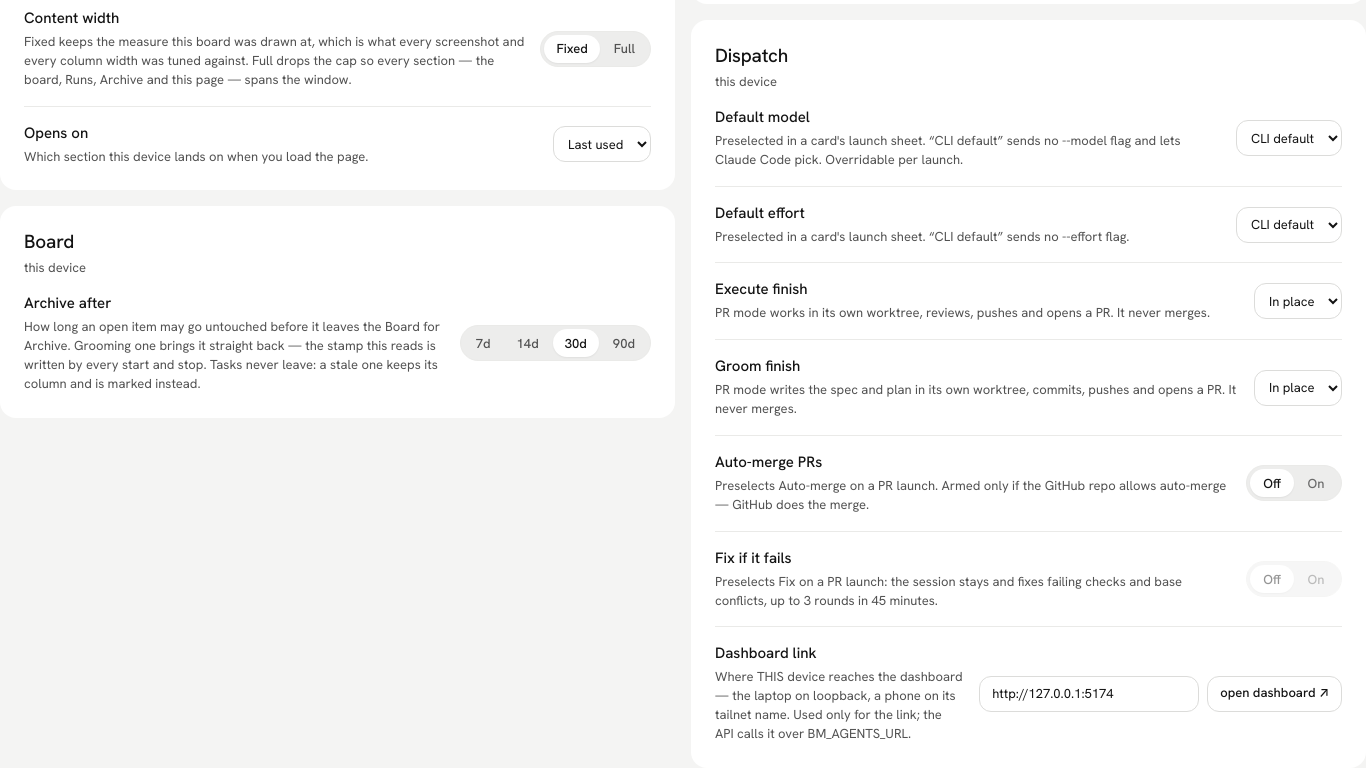
Test case: SettingsView › the Dispatch group · Local › offers the auto-merge and fix defaults, with Fix disabled until Auto-merge is on
(page scrolled)
Expected: the text "Preselects Auto-merge on a PR launch. Armed only if the GitHub repo allows auto-merge — GitHub does the merge." is shown, [715, 477, 1226, 513]
Expected: the text "Preselects Fix on a PR launch: the session stays and fixes failing checks and base conflicts, up to 3 rounds in 45 minut" is shown, [715, 573, 1182, 608]
Click the switch named "auto-merge PRs" at x=1294, y=483, box [1246, 465, 1342, 501]
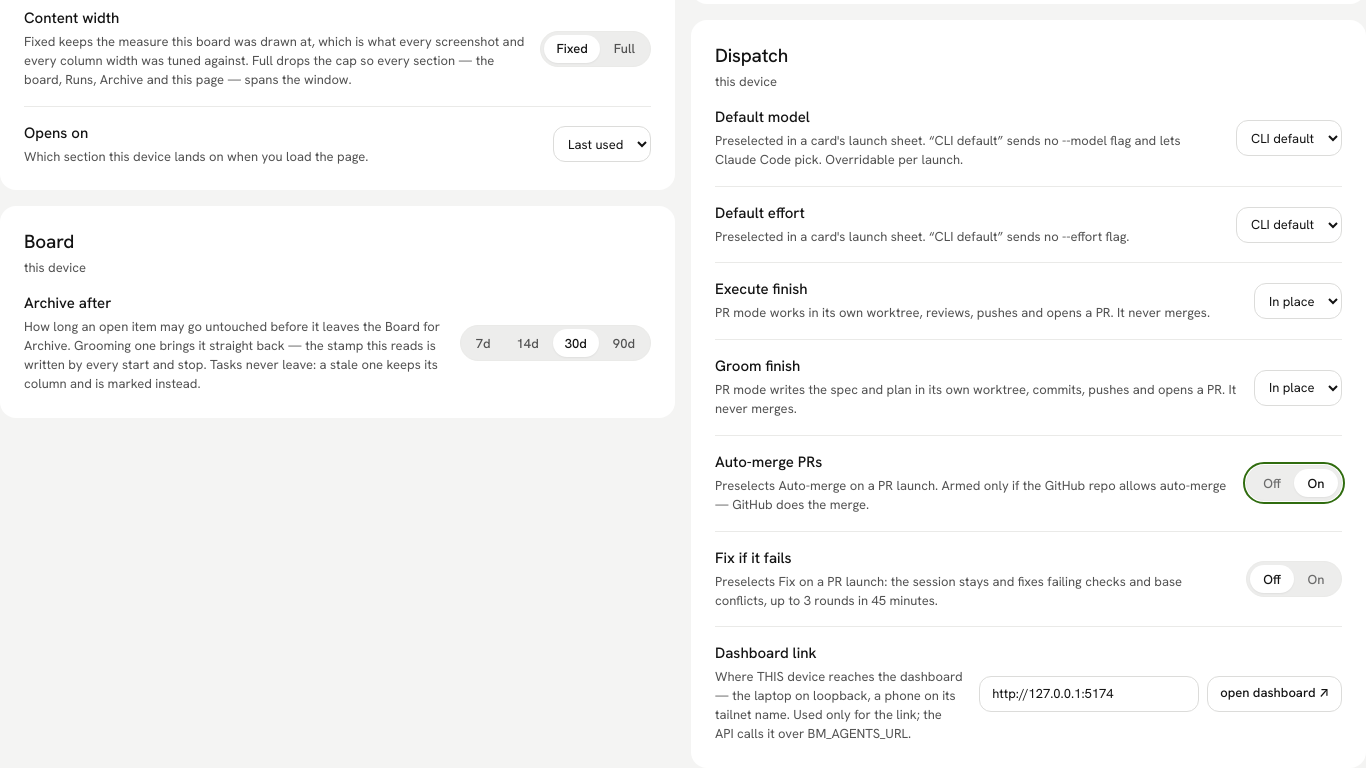
Expected: the switch named "fix if it fails" is enabled
Click the switch named "fix if it fails" at x=1294, y=579, box [1246, 561, 1342, 597]
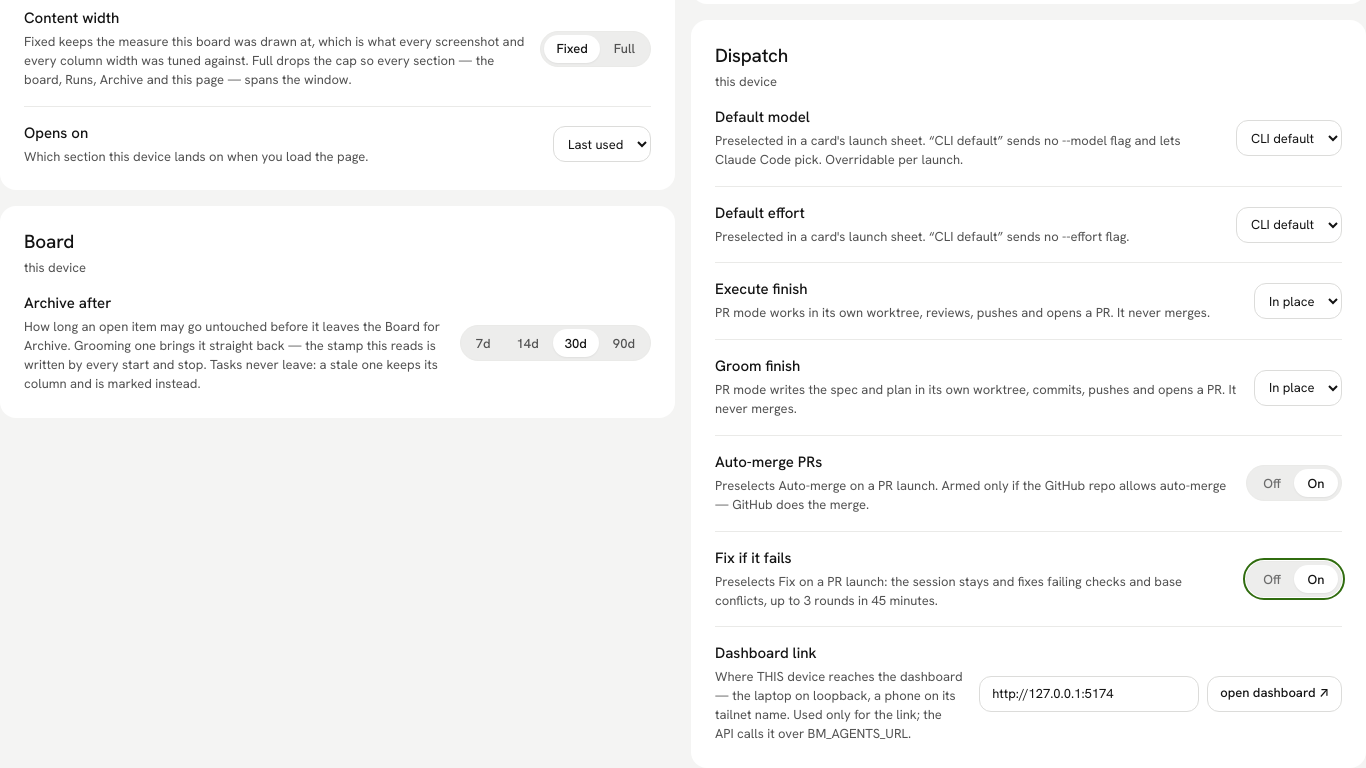
// Auto-merge off again: Fix greys out but its stored value is left alone.
Click the switch named "auto-merge PRs" at x=1294, y=483, box [1246, 465, 1342, 501]
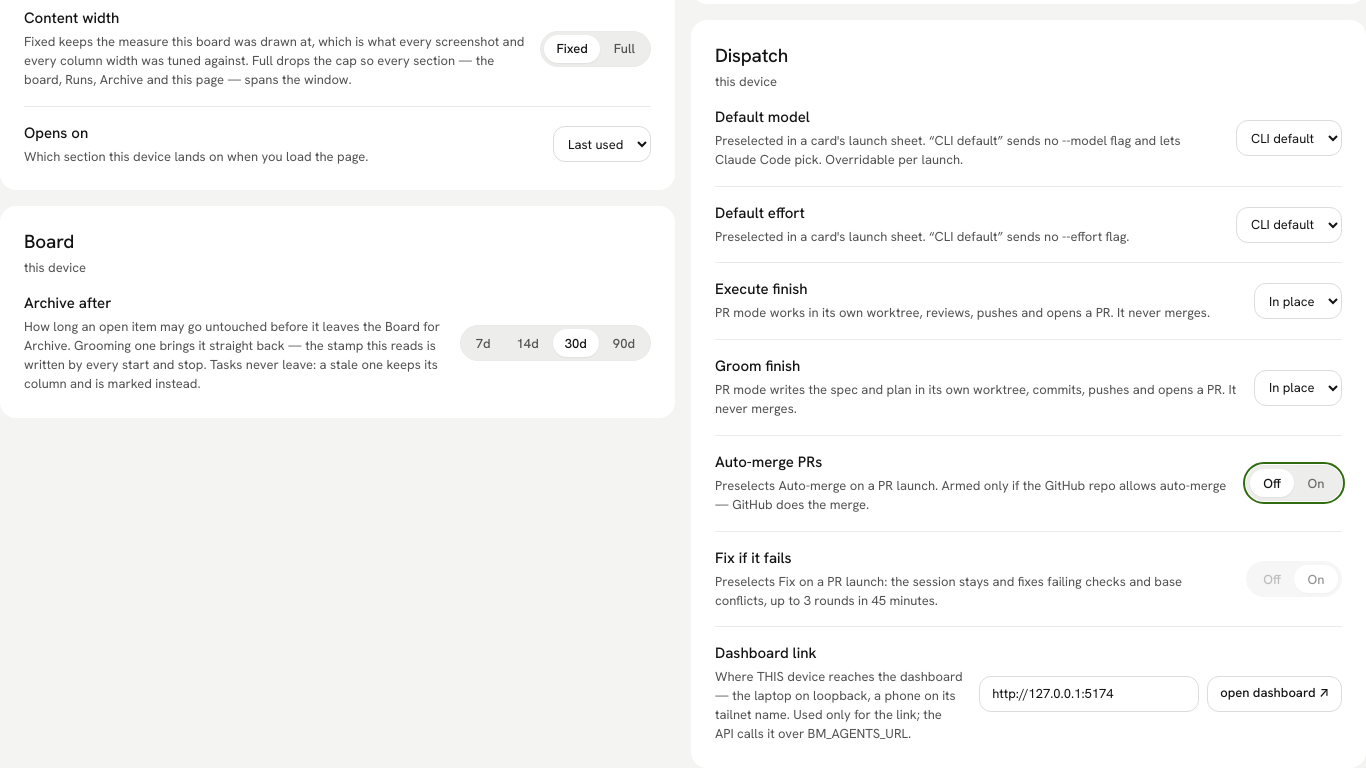
Expected: the switch named "fix if it fails" is disabled, [1246, 561, 1342, 597]
